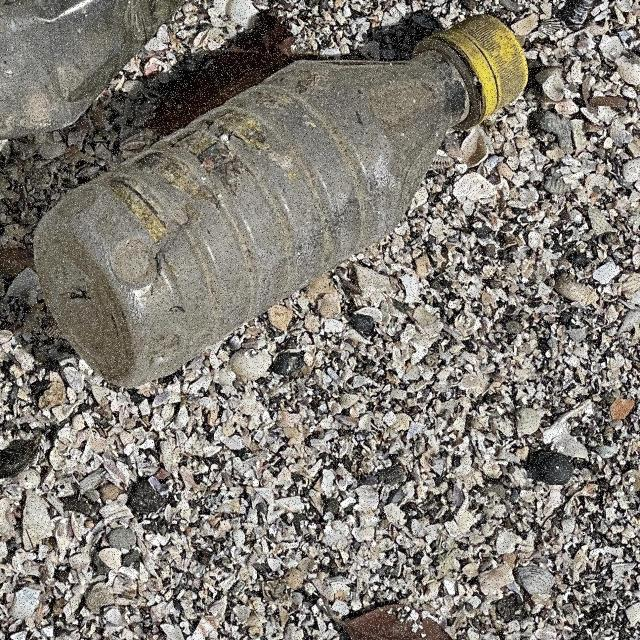plastic_waste: (33, 17, 529, 390)
